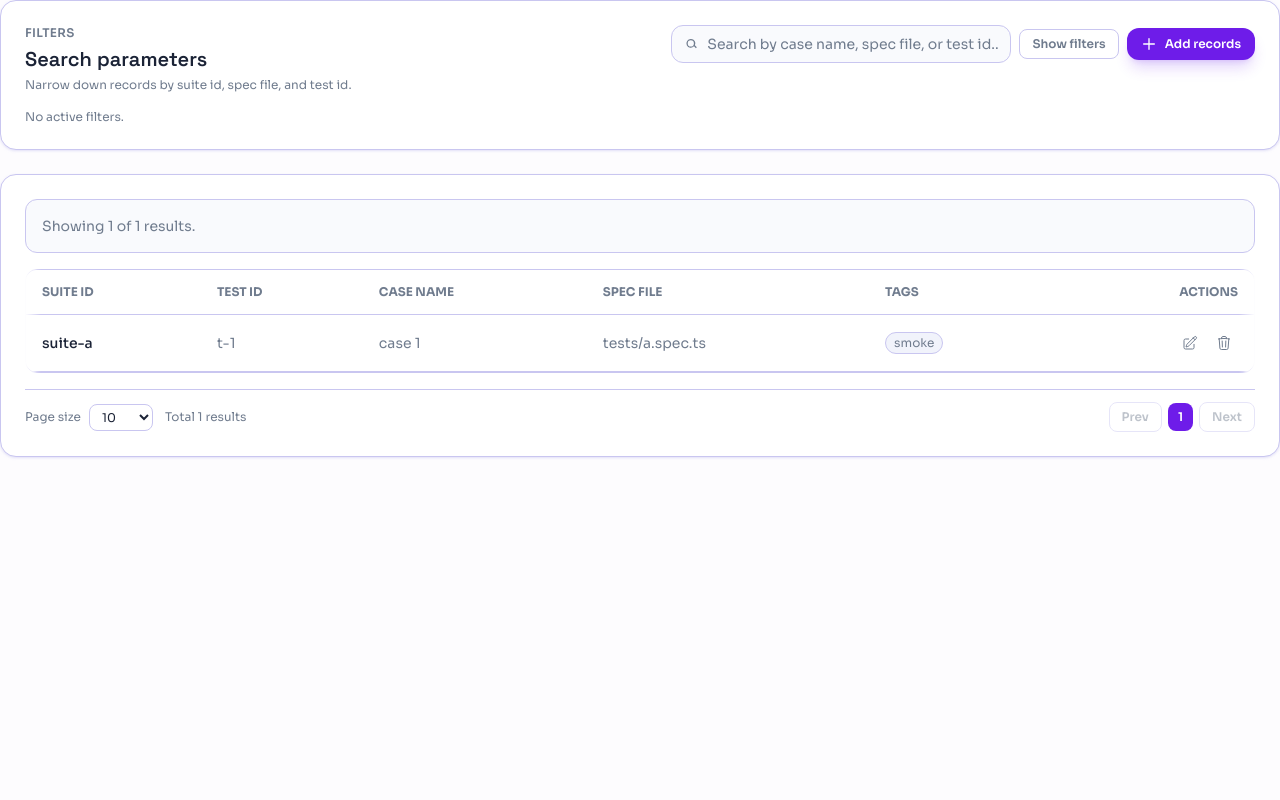
Scenario: TestSuitesTable › renders ACTIONS column and updates a row
expect the column heading "ACTIONS" is shown: met, box [1058,270,1254,314]
Click the button titled "Edit record": (1190,343) [1176,329,1204,357]
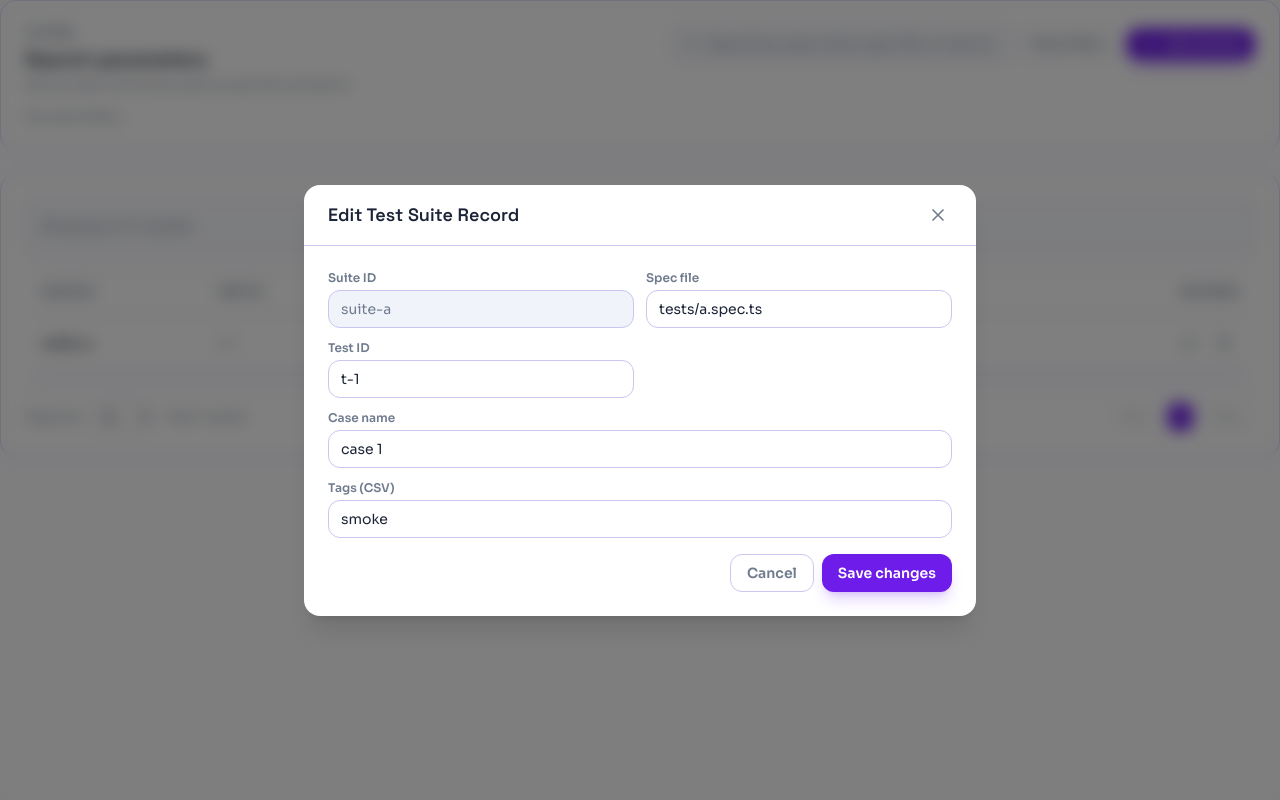
Replace the text in the field named "Edit Case name" with "case updated": (640,448) [328,430,952,468]
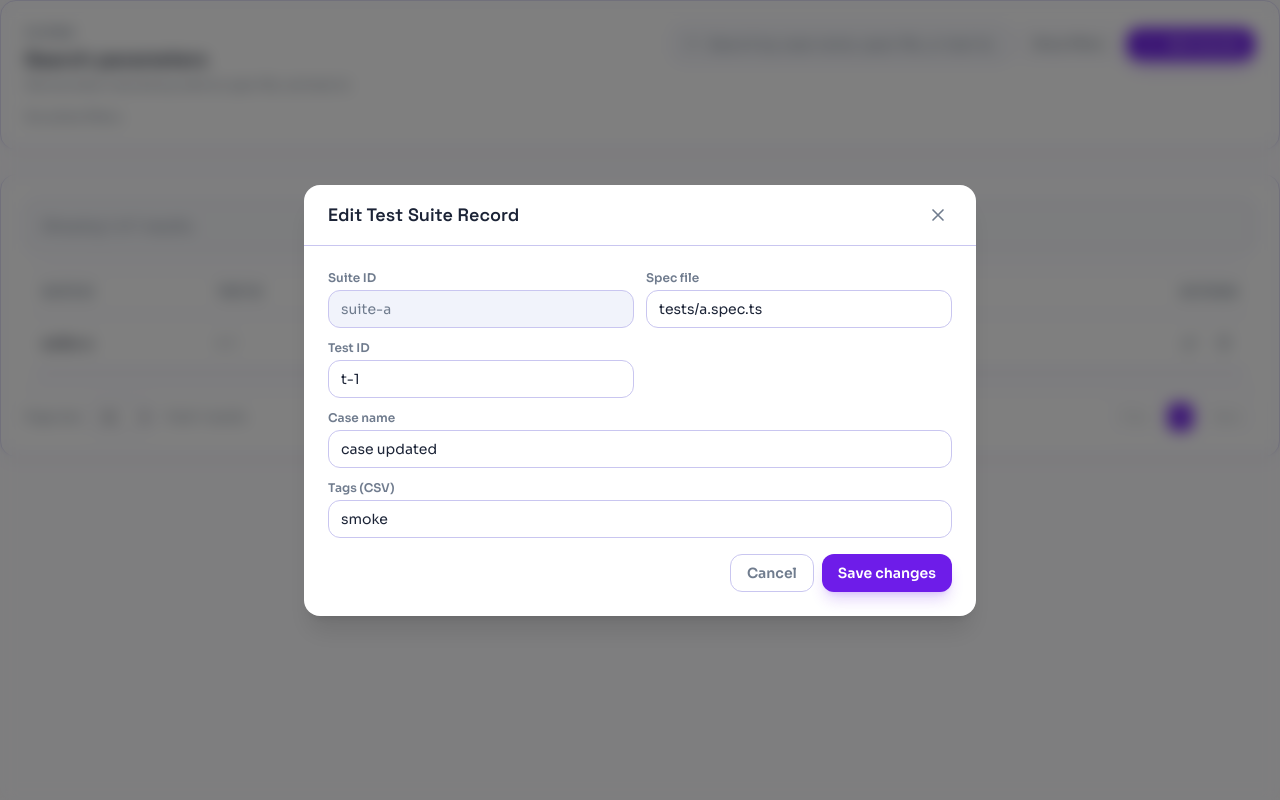
Click the button "Save changes": (887,572) [822,554,952,592]
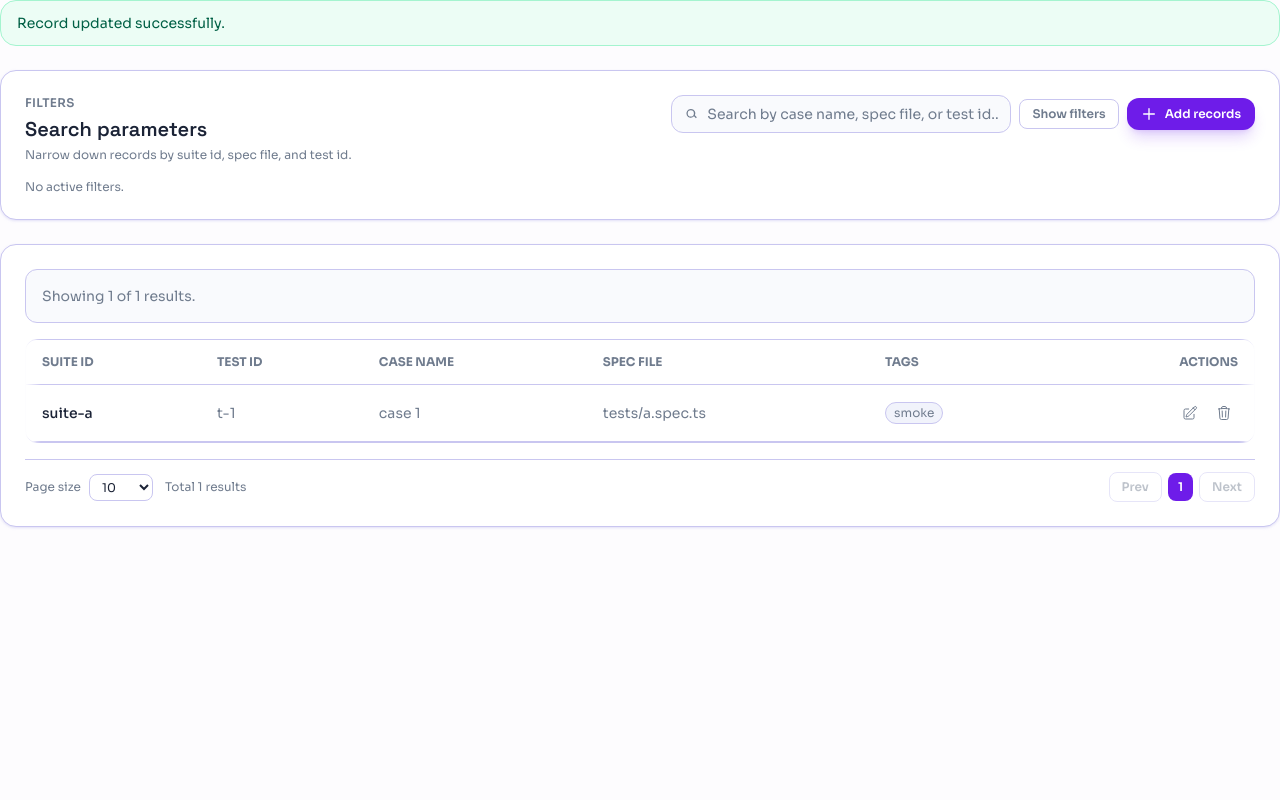
expect the text "Record updated successfully." is shown: met, box [0,0,1279,46]
